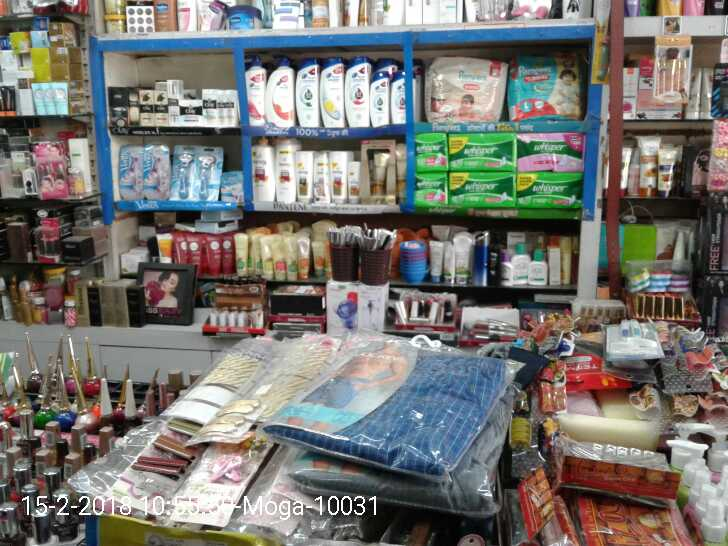venus: (142, 142, 169, 201), (193, 149, 222, 198), (120, 145, 142, 201), (173, 145, 193, 198), (224, 171, 243, 198)
